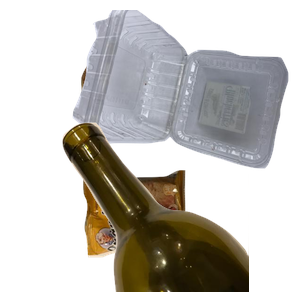glass: (60, 120, 300, 300)
metal: (78, 37, 243, 163)
plastic: (70, 10, 300, 171)
trash: (81, 168, 261, 300)
